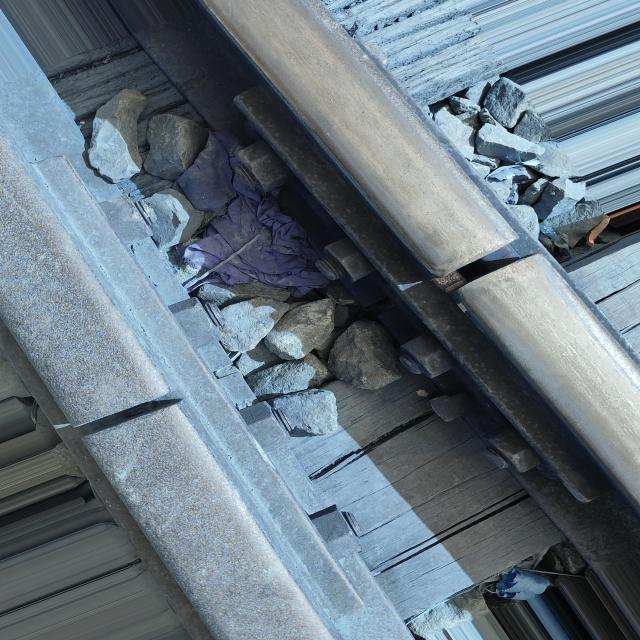crack: (417, 215, 588, 312), (33, 374, 228, 452)
